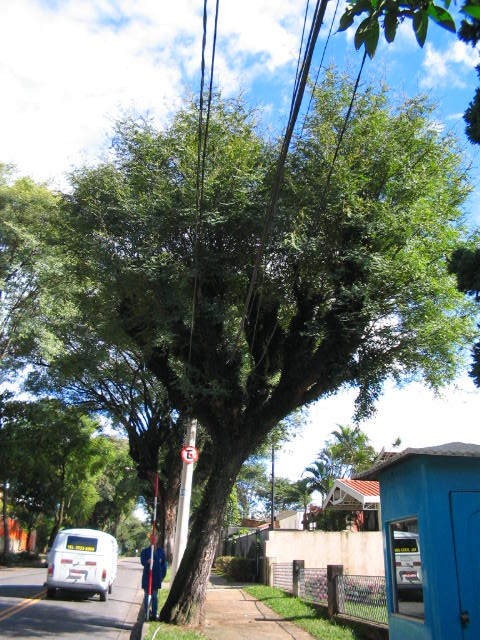crown: (70, 63, 471, 418)
stem: (167, 458, 258, 626)
stick: (142, 474, 163, 619)
tree: (65, 59, 475, 626)
